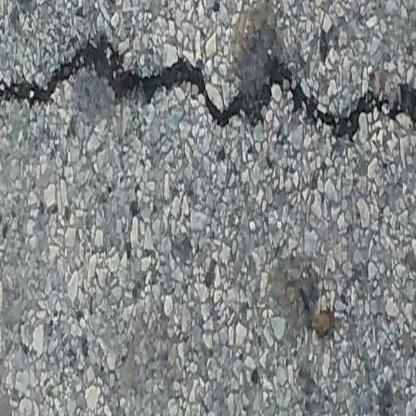Cracks: (0, 32, 416, 154)
